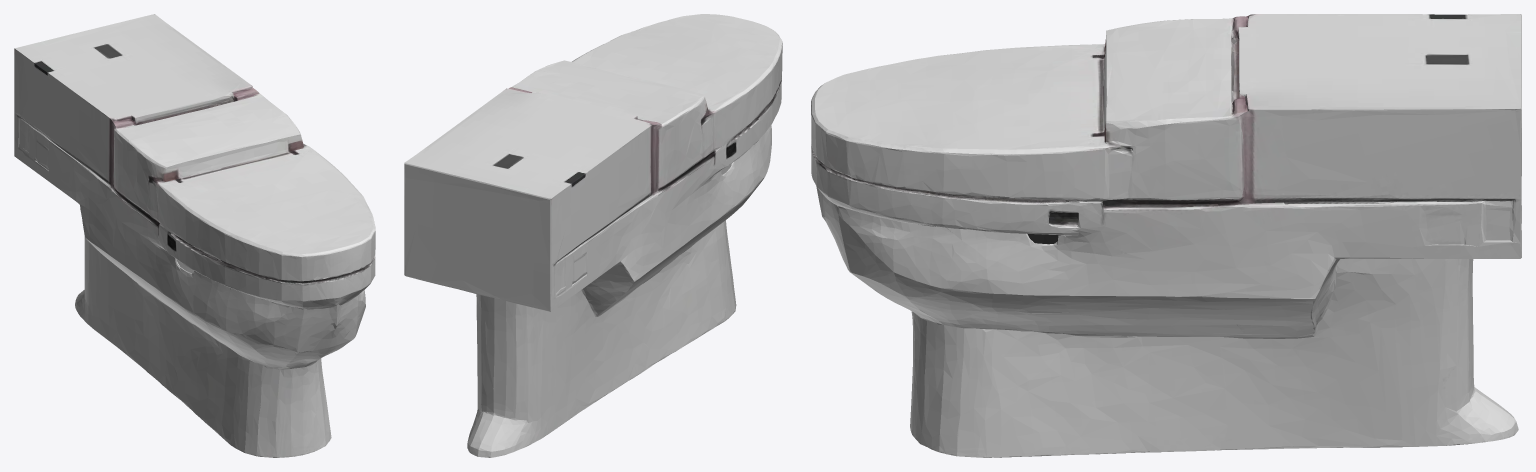
Rendered from f50cdd36-4261-46b1-9dd8-0fa95b9eb4a2.glb.
3 renders of one model, left to right at view 1: azimuth 30°, elevation 25°; view 2: azimuth 150°, elevation 25°; view 3: azimuth 270°, elevation 25°, orthographic. The views are drawn at different scales.
Parts seen in each view (by area): view 1: world; view 2: world; view 3: world.
Part boxes in pixels (x1,y1,x2,y2): world: (14,14,375,457); world: (404,14,782,457); world: (811,14,1521,457).
Bounding box in the file's own units: 0.3524 × 0.5714 × 1.
1 material, 1 textured.
